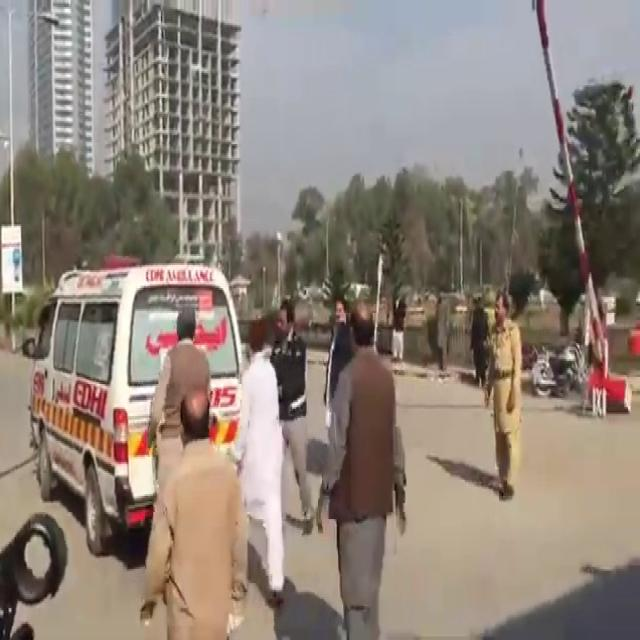ambulance: (6, 265, 266, 505)
